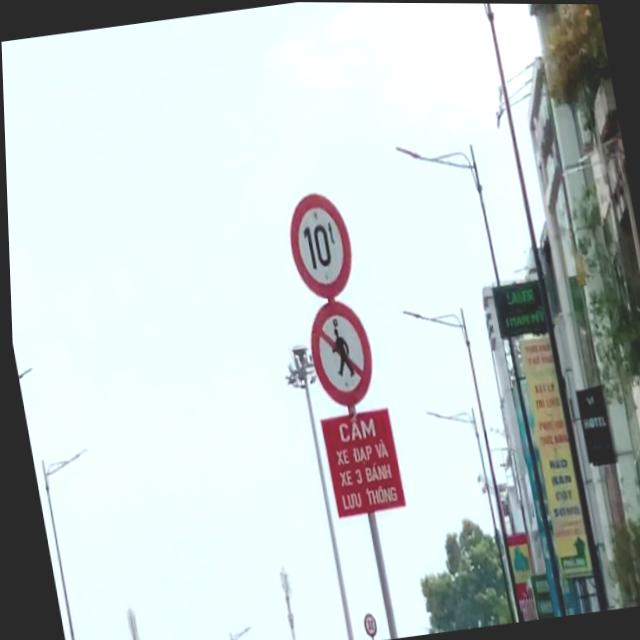Toc do toi da cho phep: (358, 611, 374, 638)
